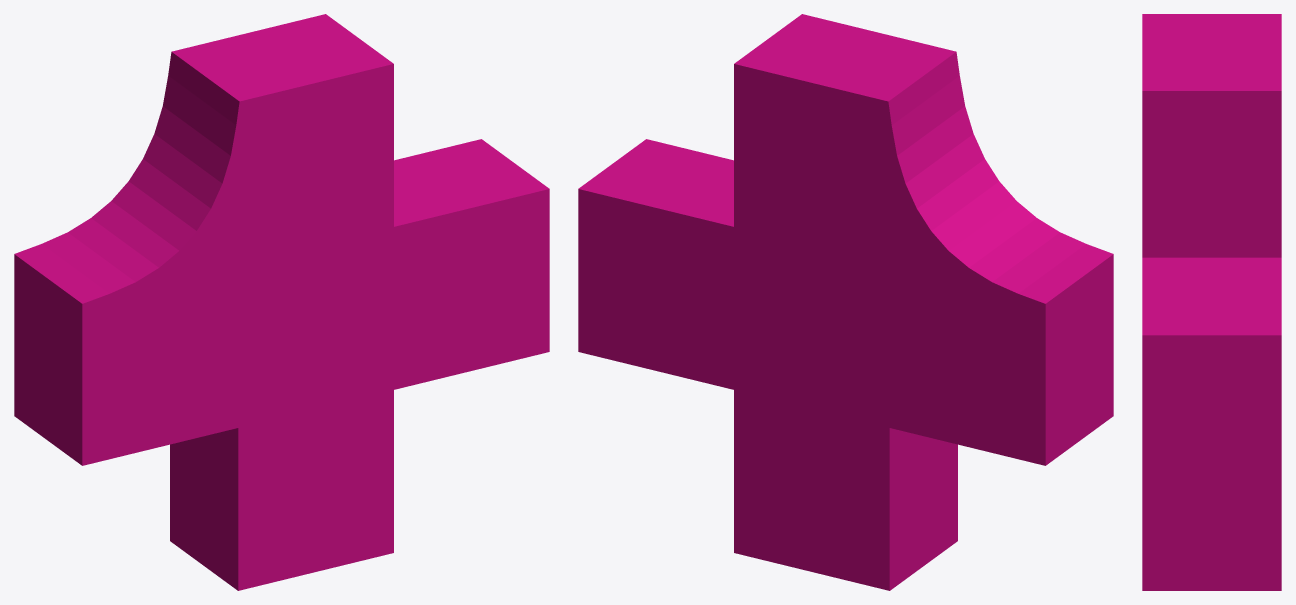
File: plus.obj
The picture shows the model from 3 angles, left to right: view 1: azimuth 30°, elevation 25°; view 2: azimuth 150°, elevation 25°; view 3: azimuth 270°, elevation 25°; orthographic projection. The views are drawn at different scales.
Visible parts, largest first — view 1: obj_0; view 2: obj_0; view 3: obj_0.
Part boxes in pixels (x1=…): obj_0: x1=14, y1=14, x2=549, y2=590; obj_0: x1=578, y1=14, x2=1113, y2=590; obj_0: x1=1142, y1=14, x2=1281, y2=590.
Size of the model in its own units: 99 by 99 by 25.
